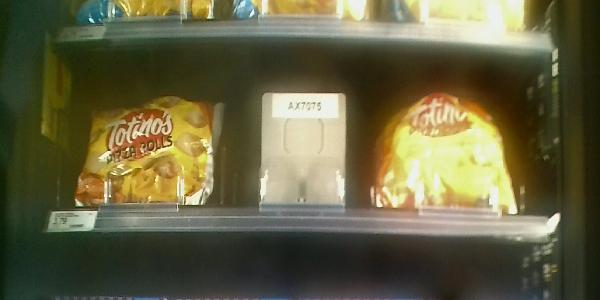icecream: (362, 76, 529, 216), (76, 102, 229, 208)
